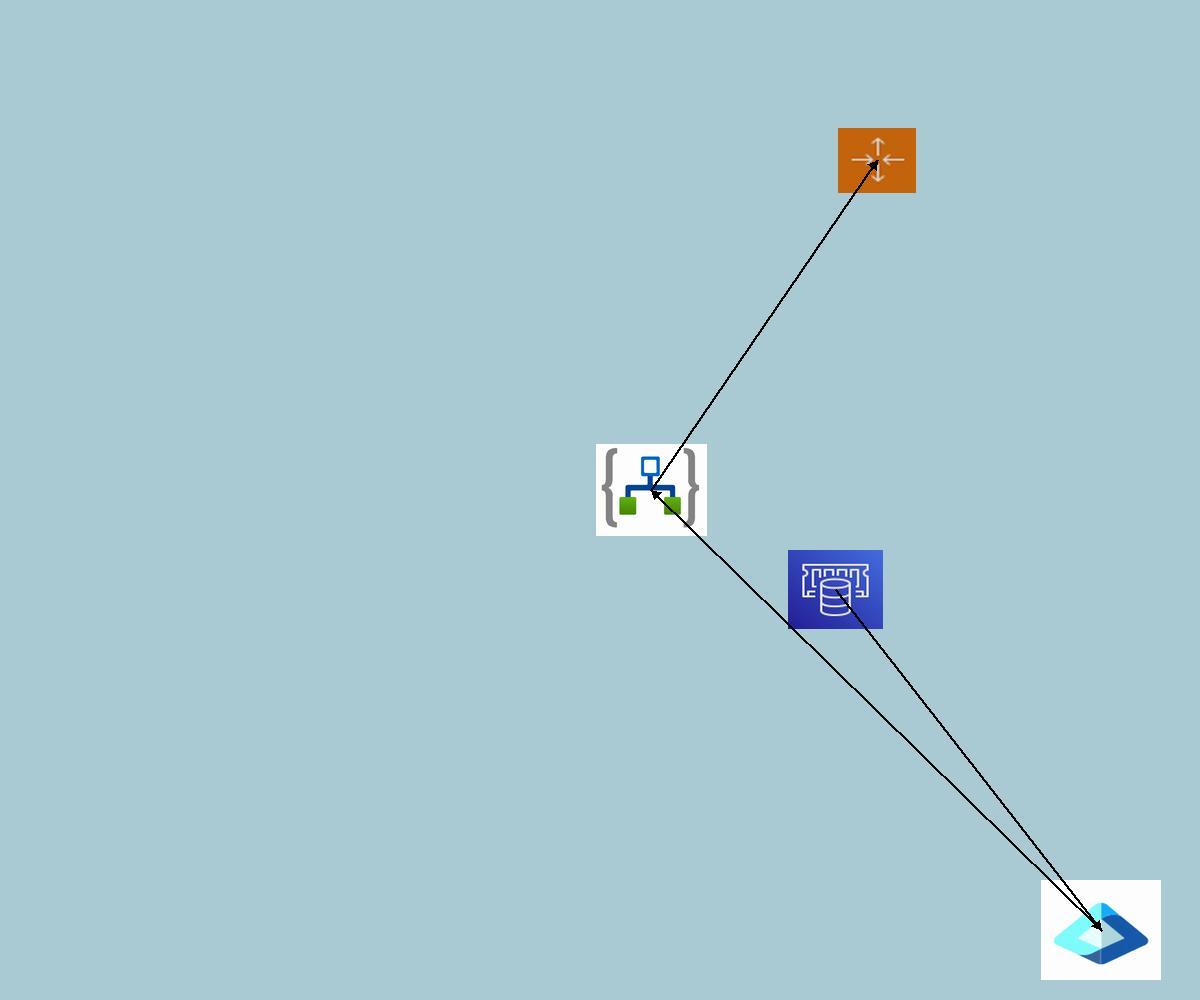AWS-ElastiCache: (788, 550, 883, 629)
AWS-Scaling-group: (838, 128, 916, 193)
Azure_integration-204-Logic-Apps: (596, 444, 707, 536)
Azure_microsoft_entra: (1041, 880, 1161, 980)
